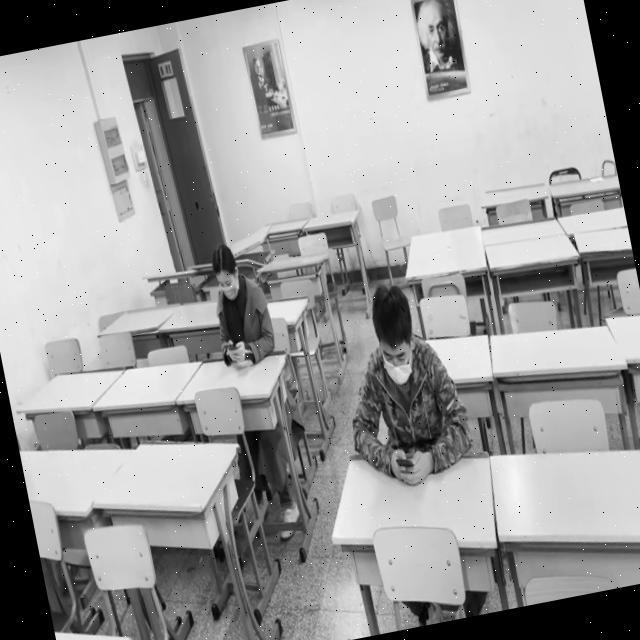phone: (325, 273, 478, 494), (200, 236, 279, 369)
